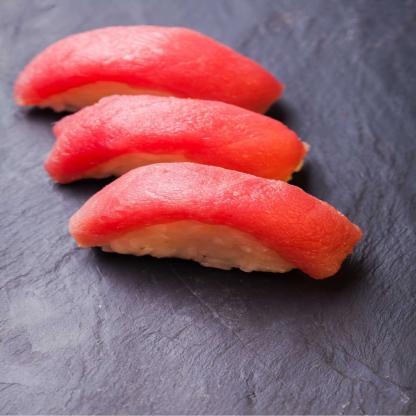maguro: (56, 160, 376, 288)
